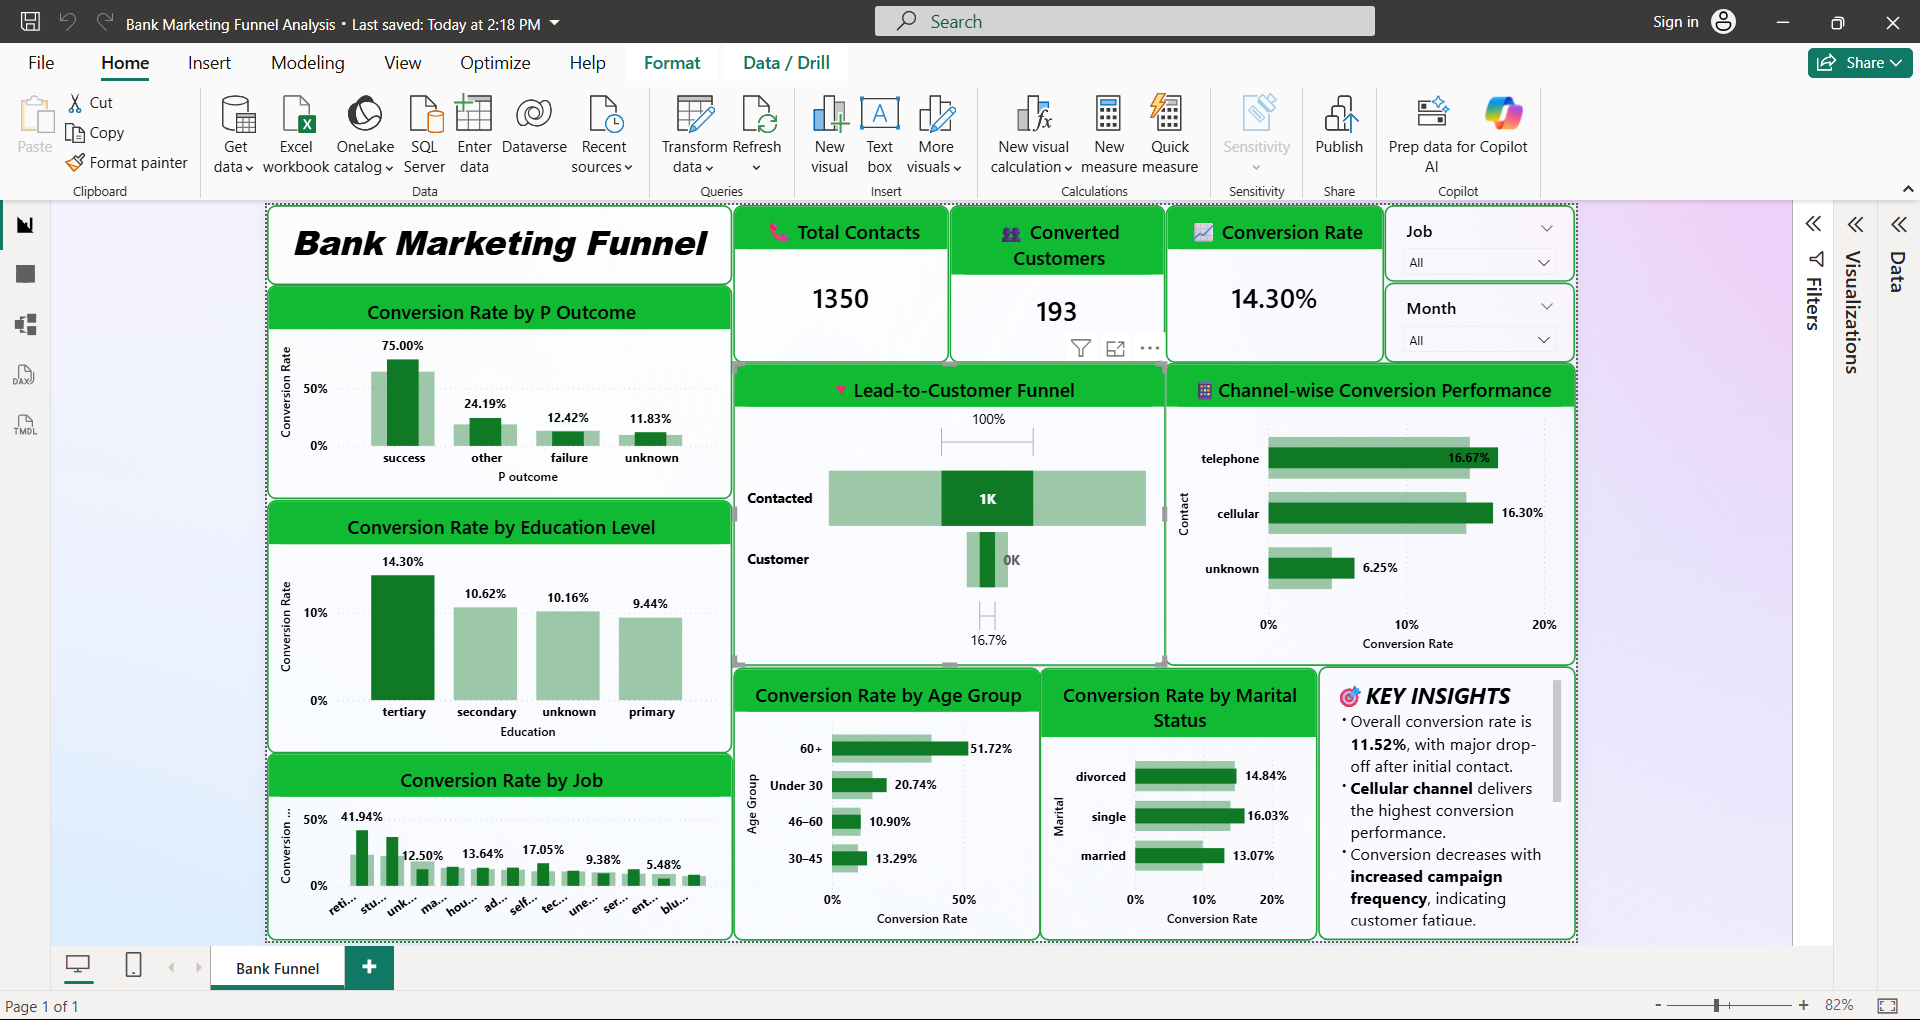

The page's visual inventory and layout, read from the dashboard file:
{"tool":"powerbi","page":{"name":"Page 1","canvas":[1280,720],"ordinal":0},"visuals":[{"type":"card","title":"Total Contacts","fields":{"Values":["Cleaned_Bank_data.Total Contacts"]},"box":[455.6,0,211.3,153.7],"z":0},{"type":"card","title":"Converted Customers","fields":{"Values":["Cleaned_Bank_data.Total Customers"]},"box":[666.9,0,219.6,153.7],"z":1000},{"type":"card","title":"Conversion Rate","fields":{"Values":["Cleaned_Bank_data.Conversion Rate"]},"box":[886.6,0,210.3,154.1],"z":2000},{"type":"funnel","title":"Lead-to-Customer Funnel","fields":{"Y":["Cleaned_Bank_data.Funnel Count"],"Category":["Cleaned_Bank_data.Funnel Stage"]},"box":[455.6,153.7,413,299.1],"z":3000},{"type":"clusteredBarChart","title":"Channel-wise Conversion Performance","fields":{"Category":["Cleaned_Bank_data.Contact"],"Y":["Cleaned_Bank_data.Conversion Rate"]},"box":[868.6,153.7,411.7,299.1],"z":4000},{"type":"slicer","fields":{"Values":["Cleaned_Bank_data.Month"]},"box":[1093.7,75.5,186.6,78.2],"z":5000},{"type":"slicer","fields":{"Values":["Cleaned_Bank_data.Job"]},"box":[1093.7,0,186.6,75.5],"z":6000},{"type":"clusteredBarChart","title":"Conversion Rate by Marital Status","fields":{"Category":["Cleaned_Bank_data.Marital"],"Y":["Cleaned_Bank_data.Conversion Rate"]},"box":[756.1,452.8,271.7,267.6],"z":7000},{"type":"clusteredColumnChart","title":"Conversion Rate by Education Level","fields":{"Category":["Cleaned_Bank_data.Education"],"Y":["Cleaned_Bank_data.Conversion Rate"]},"box":[0,288.2,455.6,248.4],"z":8000},{"type":"clusteredBarChart","fields":{"Category":["Cleaned_Bank_data.Age Group"],"Y":["Cleaned_Bank_data.Conversion Rate"]},"box":[455.6,452.8,300.5,267.6],"z":9000},{"type":"clusteredColumnChart","title":"Conversion Rate by P Outcome","fields":{"Y":["Cleaned_Bank_data.Conversion Rate"],"Category":["Cleaned_Bank_data.P out Come"]},"box":[0,78.2,455.6,209.9],"z":10000},{"type":"textbox","title":"Bank Marketing Funnel","box":[0,0,455.6,78.2],"z":11000},{"type":"clusteredColumnChart","fields":{"Category":["Cleaned_Bank_data.Job"],"Y":["Cleaned_Bank_data.Conversion Rate"]},"box":[0,536,456,184],"z":12000},{"type":"textbox","box":[1028.4,451.2,251.9,267.8],"z":13000}]}

Visuals, with their boxes on the page's 1280x720 design canvas (x1, y1, x2, y2). These are canvas units, not pixel positions in the 1920x1020 screenshot, which may show the page scaled, cropped or inside an application window:
"Total Contacts" card: region(456, 0, 667, 154)
"Converted Customers" card: region(667, 0, 886, 154)
"Conversion Rate" card: region(887, 0, 1097, 154)
"Lead-to-Customer Funnel" funnel: region(456, 154, 869, 453)
"Channel-wise Conversion Performance" clusteredBarChart: region(869, 154, 1280, 453)
slicer - Cleaned_Bank_data.Month: region(1094, 76, 1280, 154)
slicer - Cleaned_Bank_data.Job: region(1094, 0, 1280, 76)
"Conversion Rate by Marital Status" clusteredBarChart: region(756, 453, 1028, 720)
"Conversion Rate by Education Level" clusteredColumnChart: region(0, 288, 456, 537)
clusteredBarChart - Cleaned_Bank_data.Age Group x Cleaned_Bank_data.Conversion Rate: region(456, 453, 756, 720)
"Conversion Rate by P Outcome" clusteredColumnChart: region(0, 78, 456, 288)
"Bank Marketing Funnel" textbox: region(0, 0, 456, 78)
clusteredColumnChart - Cleaned_Bank_data.Job x Cleaned_Bank_data.Conversion Rate: region(0, 536, 456, 720)
textbox: region(1028, 451, 1280, 719)
